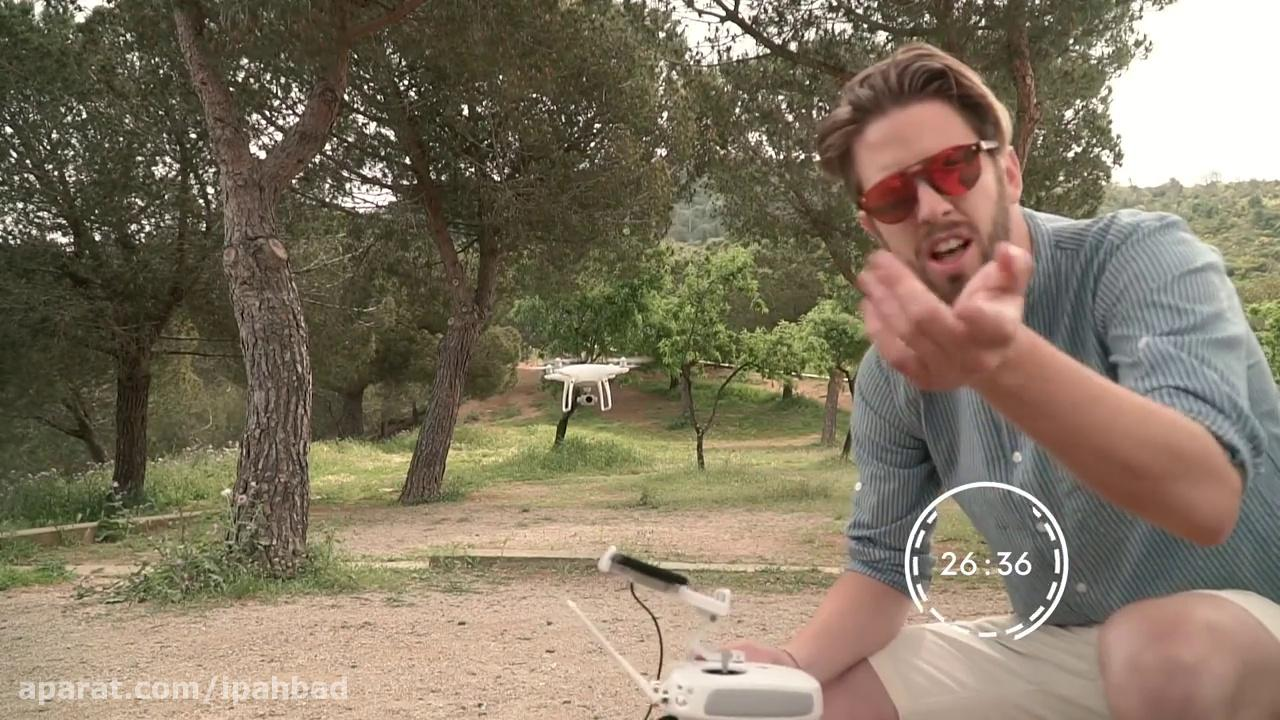drone: (530, 347, 659, 410)
